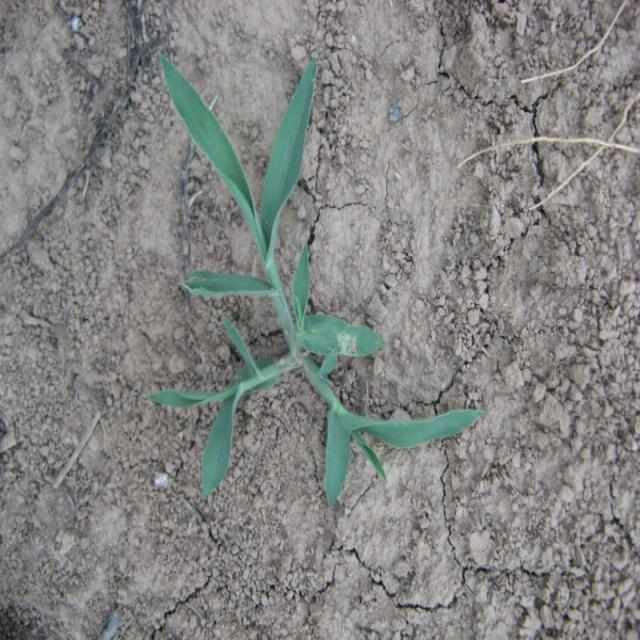bg: (155, 48, 485, 503)
